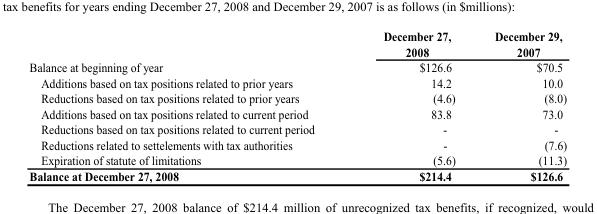table: (28, 28, 566, 182)
table column: (28, 28, 348, 182), (348, 28, 474, 182), (474, 28, 566, 182)
table column header: (28, 28, 566, 59)
table row: (28, 28, 566, 59), (28, 74, 566, 90), (28, 105, 566, 121), (28, 136, 566, 152), (28, 59, 566, 74), (28, 90, 566, 105), (28, 121, 566, 136), (28, 152, 566, 167), (28, 167, 566, 182)
